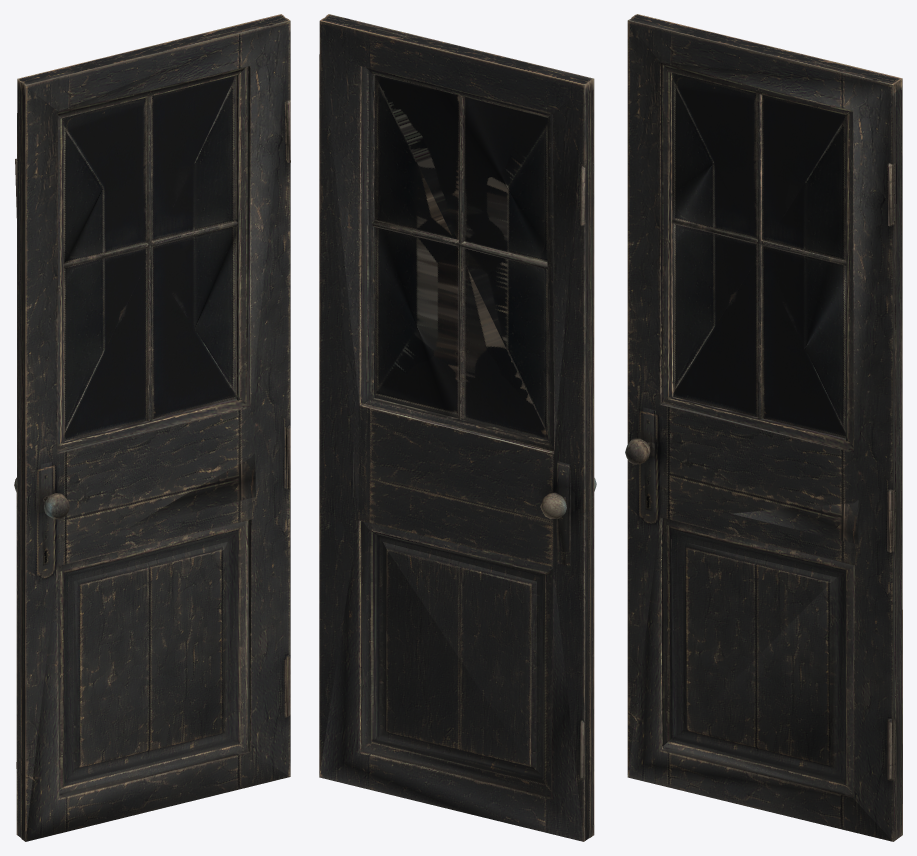
File: big door2.fbx
The picture shows the model from 3 angles, left to right: view 1: azimuth 30°, elevation 25°; view 2: azimuth 150°, elevation 25°; view 3: azimuth 330°, elevation 25°; orthographic projection.
Visible parts, largest first — view 1: mesh_node; view 2: mesh_node; view 3: mesh_node.
Part boxes in pixels (x1,y1,x2,y2): mesh_node: (14, 14, 290, 841); mesh_node: (319, 14, 596, 841); mesh_node: (625, 14, 902, 841).
Bounding box in the file's own units: 36.82 × 100 × 10.25.
Materials: 1 (1 with a texture image).
